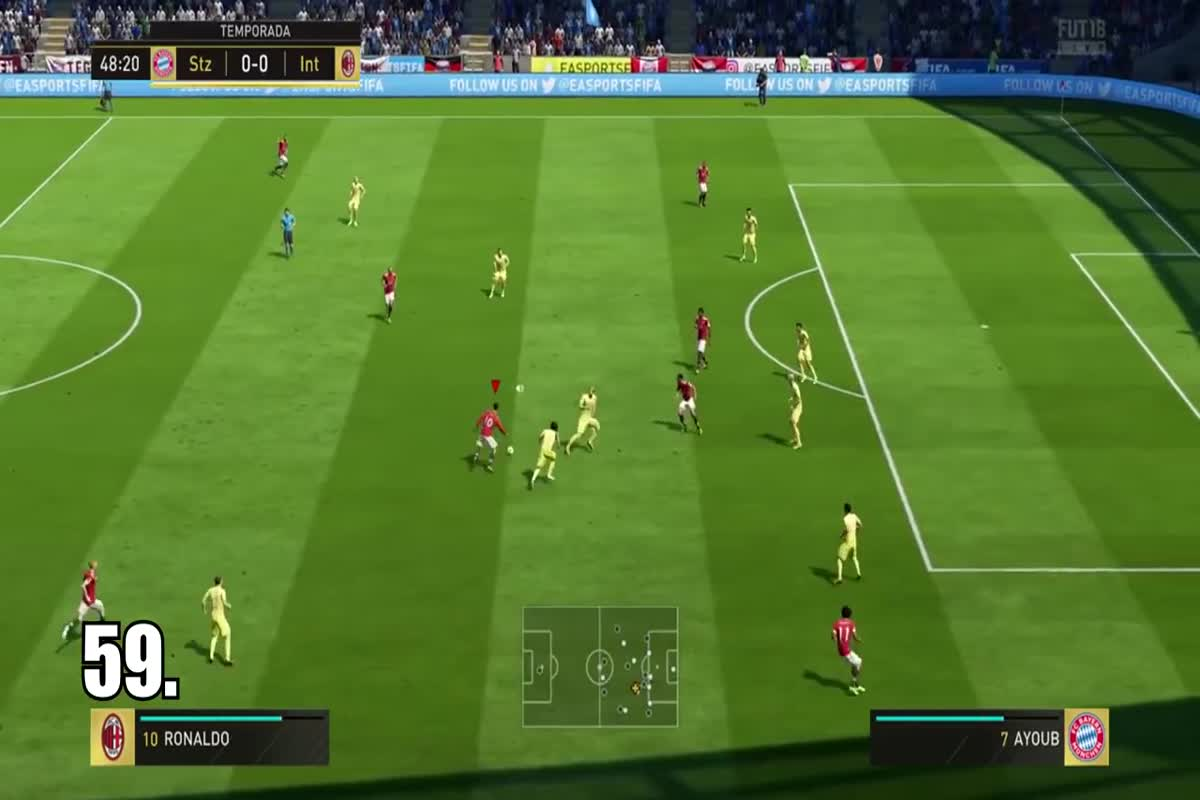ball: (503, 440, 524, 463)
